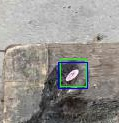text: (60, 59, 86, 86)
